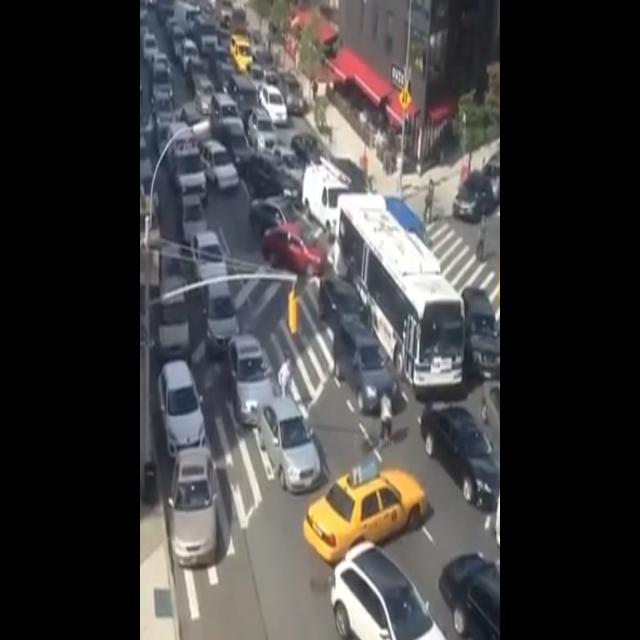Ambulance: (163, 114, 210, 203)
